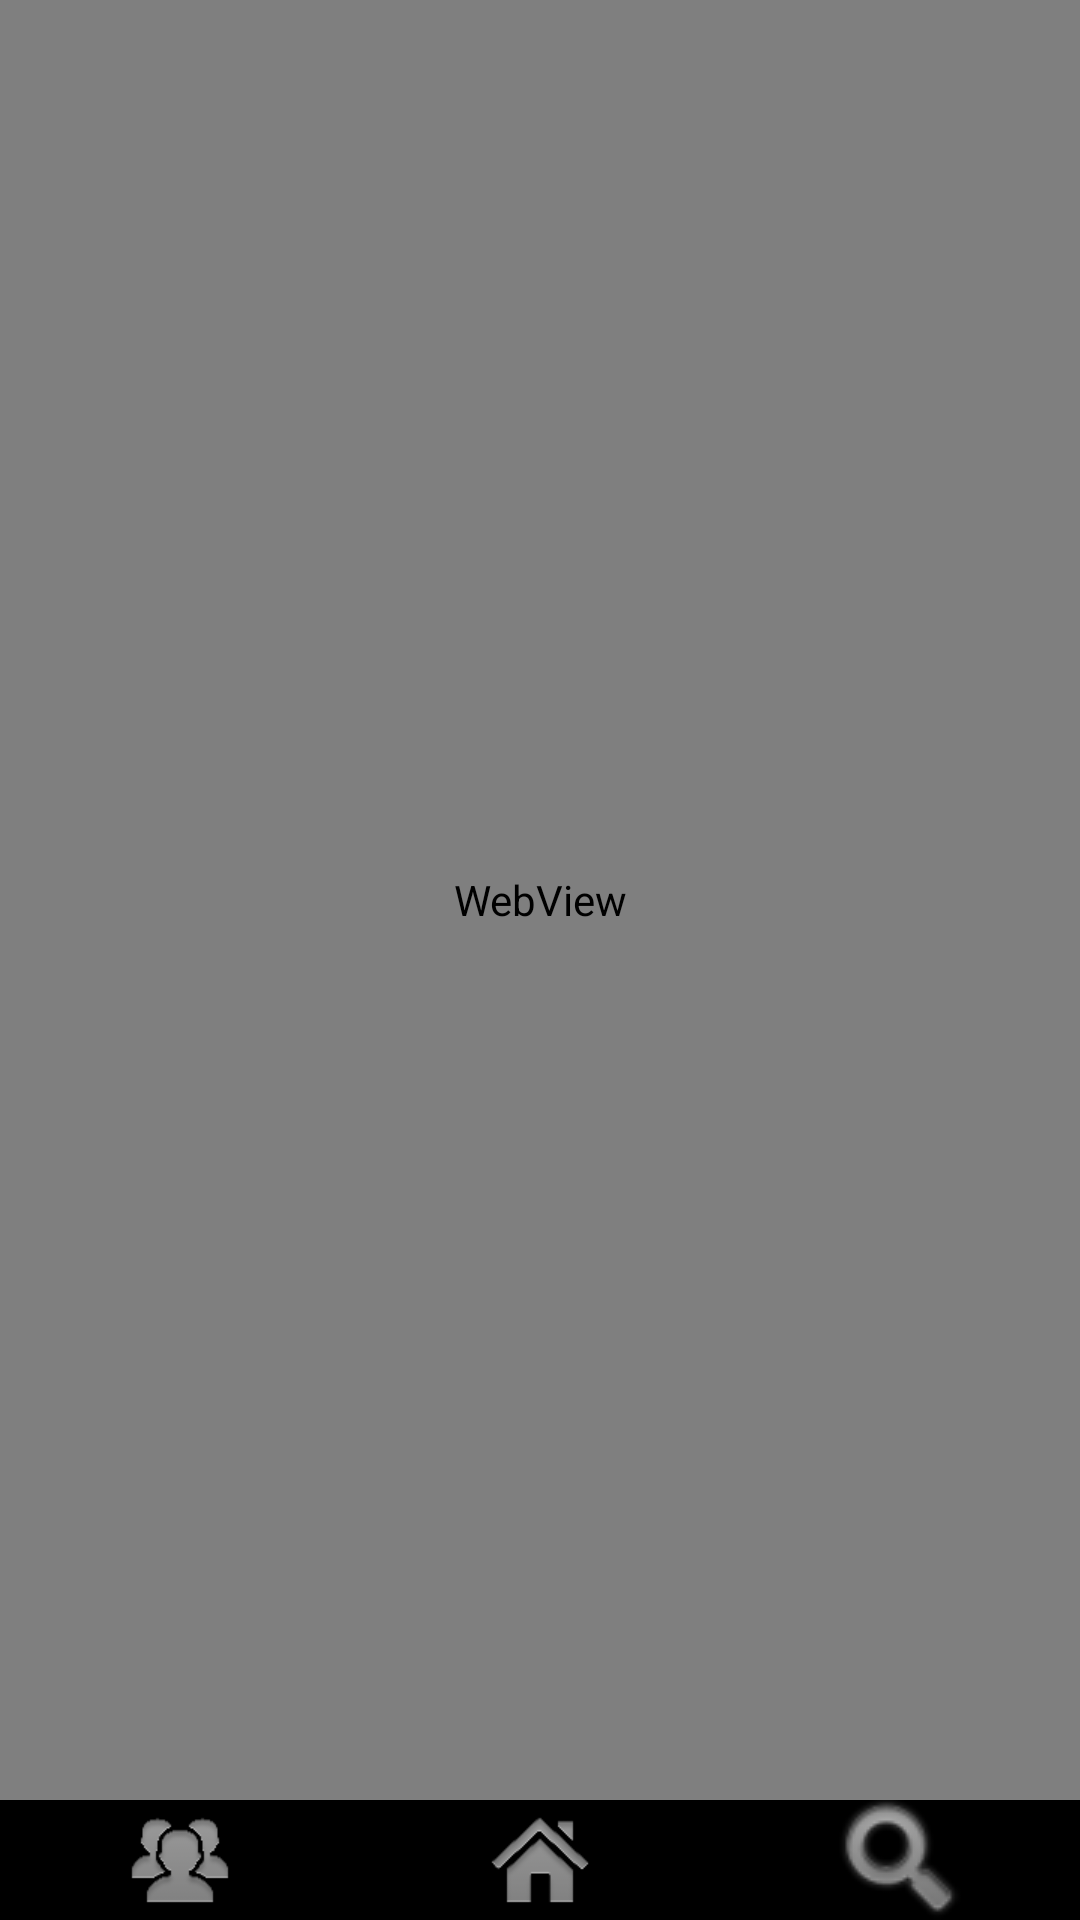

Locate icon controls on the screen. Image size 1080x1920, boxes as (x1, y1, x2, y2).
contacts: (0, 1800, 360, 1920)
home: (492, 1818, 589, 1903)
search: (720, 1800, 1080, 1920)
